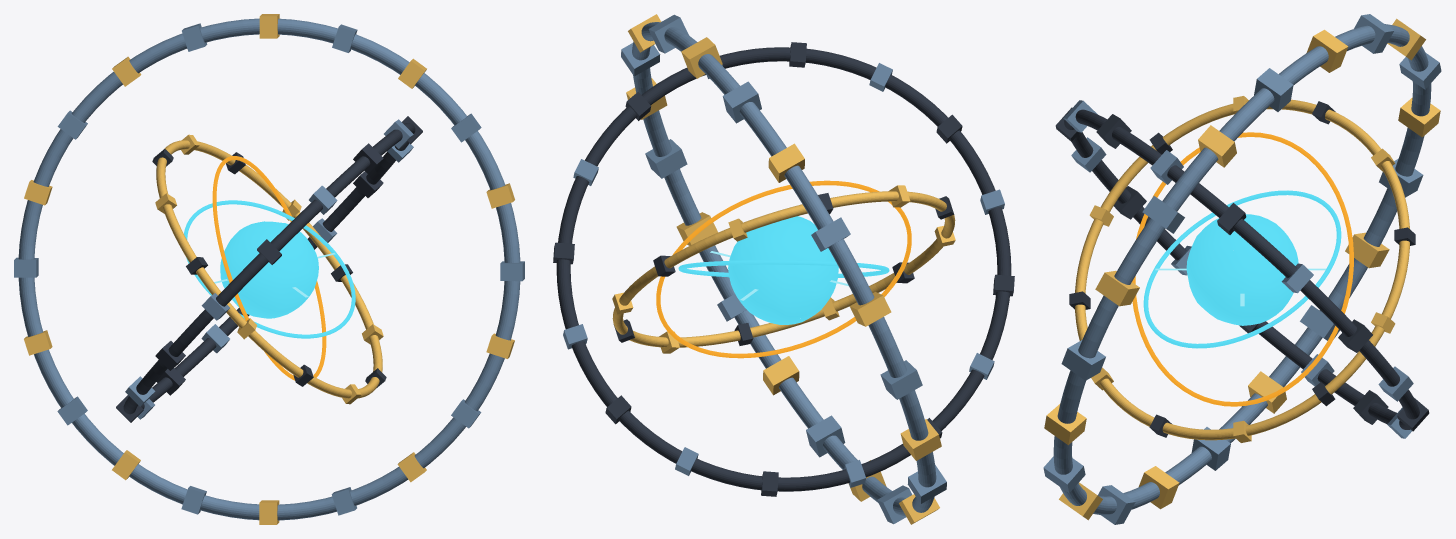
Rendered from ultron_quantum_core.glb.
3 renders of one model, left to right at view 1: azimuth 30°, elevation 25°; view 2: azimuth 150°, elevation 25°; view 3: azimuth 270°, elevation 25°, orthographic. The views are drawn at different scales.
Visible parts, largest first — view 1: Gimbal_Outer, Gimbal_Mid, Gimbal_Inner, Sun_SkyBlue_Atmosphere, Solar_Outer_Flame_1, Solar_Outer_Flame_0; view 2: Gimbal_Outer, Gimbal_Mid, Gimbal_Inner, Sun_SkyBlue_Atmosphere, Solar_Outer_Flame_1, Solar_Outer_Flame_0; view 3: Gimbal_Outer, Gimbal_Mid, Gimbal_Inner, Sun_SkyBlue_Atmosphere, Solar_Outer_Flame_1, Solar_Outer_Flame_0.
Part boxes in pixels (box(x1,y1,x2,y2)): Gimbal_Outer: box(14, 14, 524, 524); Gimbal_Mid: box(116, 116, 422, 422); Gimbal_Inner: box(152, 134, 386, 404); Sun_SkyBlue_Atmosphere: box(220, 221, 318, 318); Solar_Outer_Flame_1: box(212, 156, 326, 380); Solar_Outer_Flame_0: box(184, 200, 355, 338); Gimbal_Outer: box(621, 14, 946, 524); Gimbal_Mid: box(553, 42, 1014, 496); Gimbal_Inner: box(612, 185, 955, 353); Sun_SkyBlue_Atmosphere: box(728, 216, 838, 324); Solar_Outer_Flame_1: box(656, 180, 911, 358); Solar_Outer_Flame_0: box(678, 260, 889, 277); Gimbal_Outer: box(1043, 14, 1441, 524); Gimbal_Mid: box(1055, 100, 1429, 438); Gimbal_Inner: box(1069, 96, 1415, 442); Sun_SkyBlue_Atmosphere: box(1186, 214, 1298, 325); Solar_Outer_Flame_1: box(1132, 132, 1353, 406); Solar_Outer_Flame_0: box(1143, 190, 1341, 348).
Bounding box in the file's own units: 5.28 × 5.81 × 4.11.
